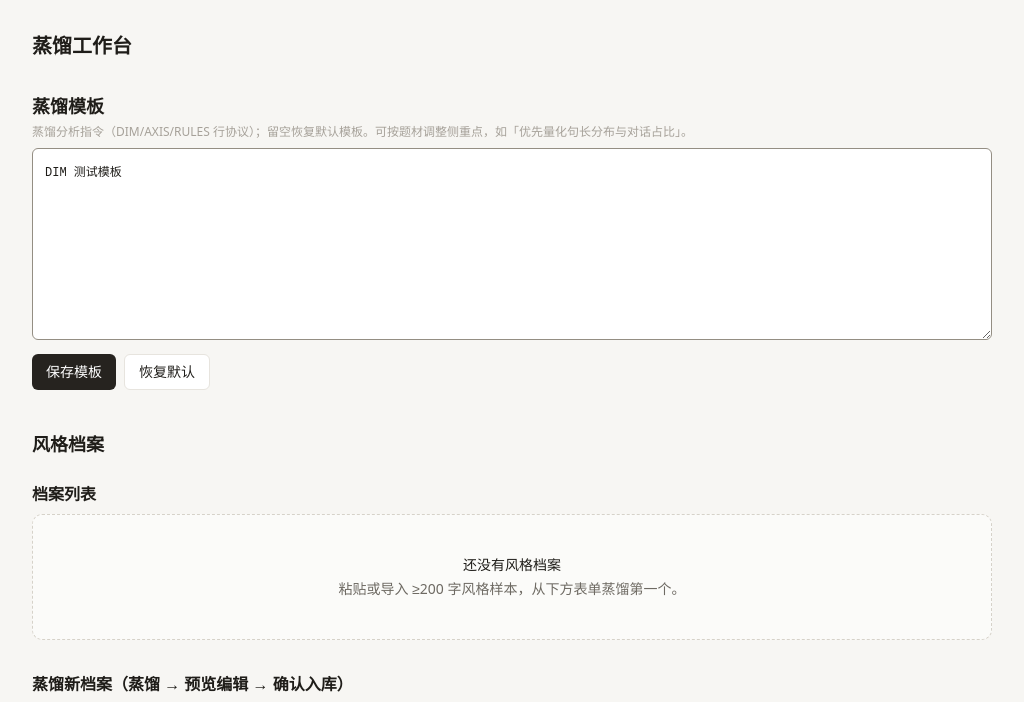
Scenario: DistillPage › 保存模板 PUT 且提示
Step 1. Replace the text in the text box named "蒸馏模板" with "新模板" → [512, 244], box x1=32 y1=148 x2=992 y2=340
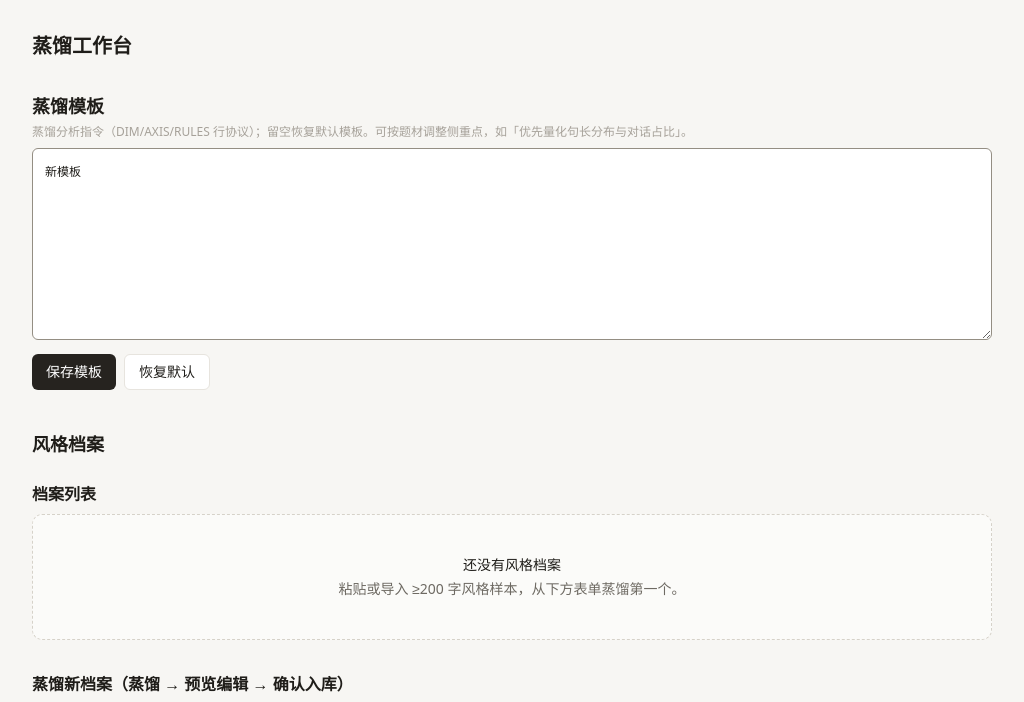
Step 2. Click the button "保存模板" → [74, 372], box x1=32 y1=354 x2=116 y2=390
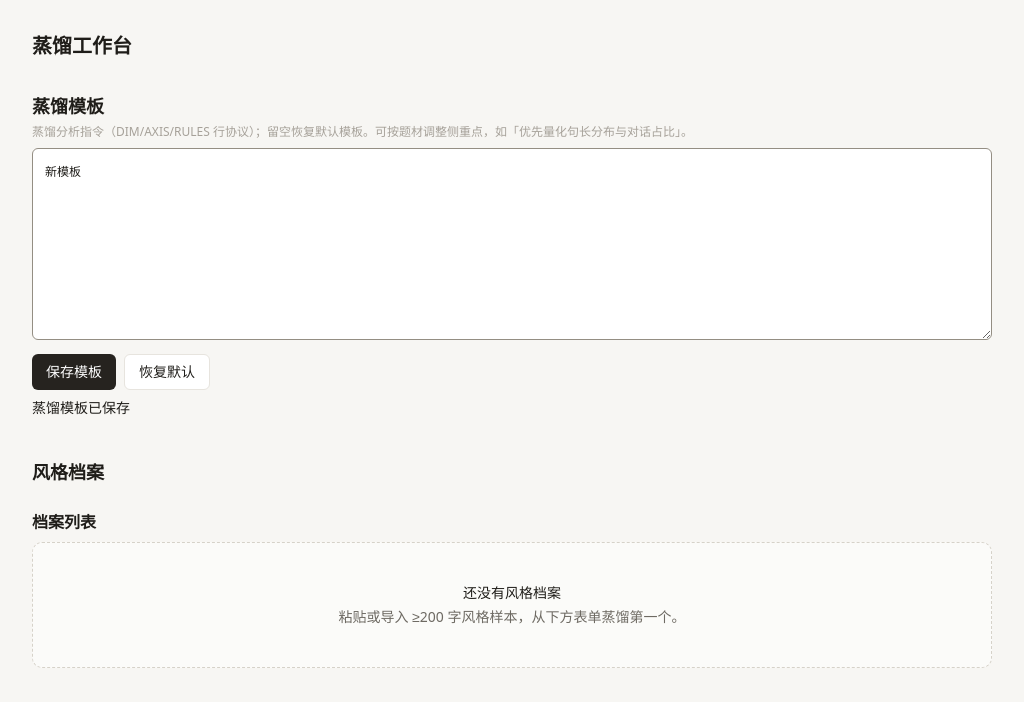
Expected: the text "蒸馏模板已保存" is shown, x1=32 y1=398 x2=130 y2=417
